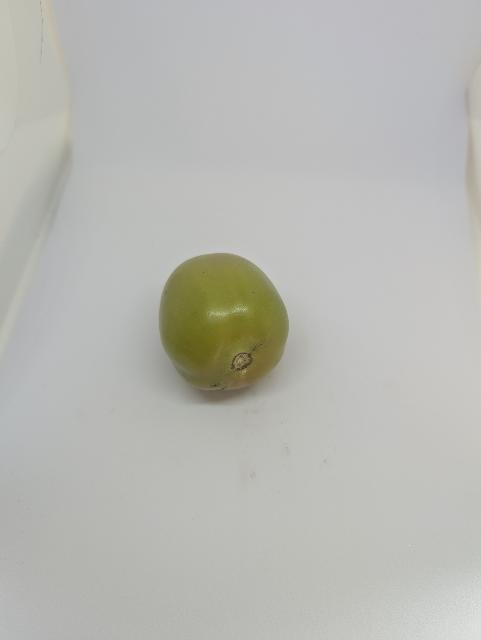green: (148, 249, 301, 398)
